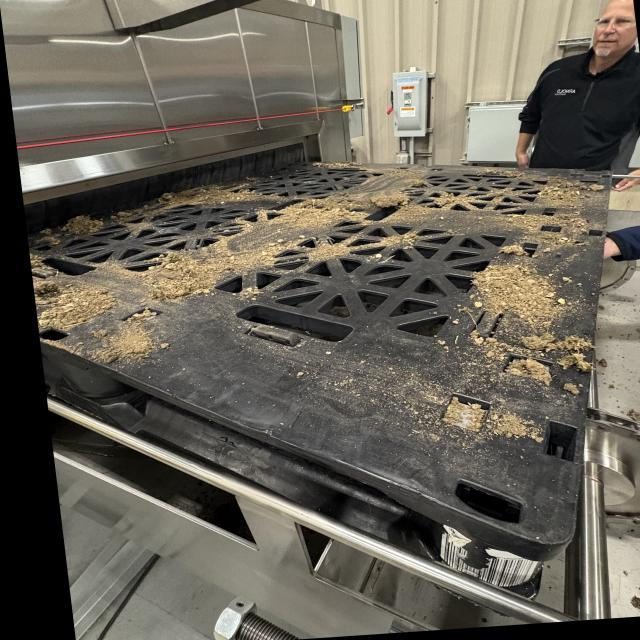igps: (20, 153, 640, 620)
